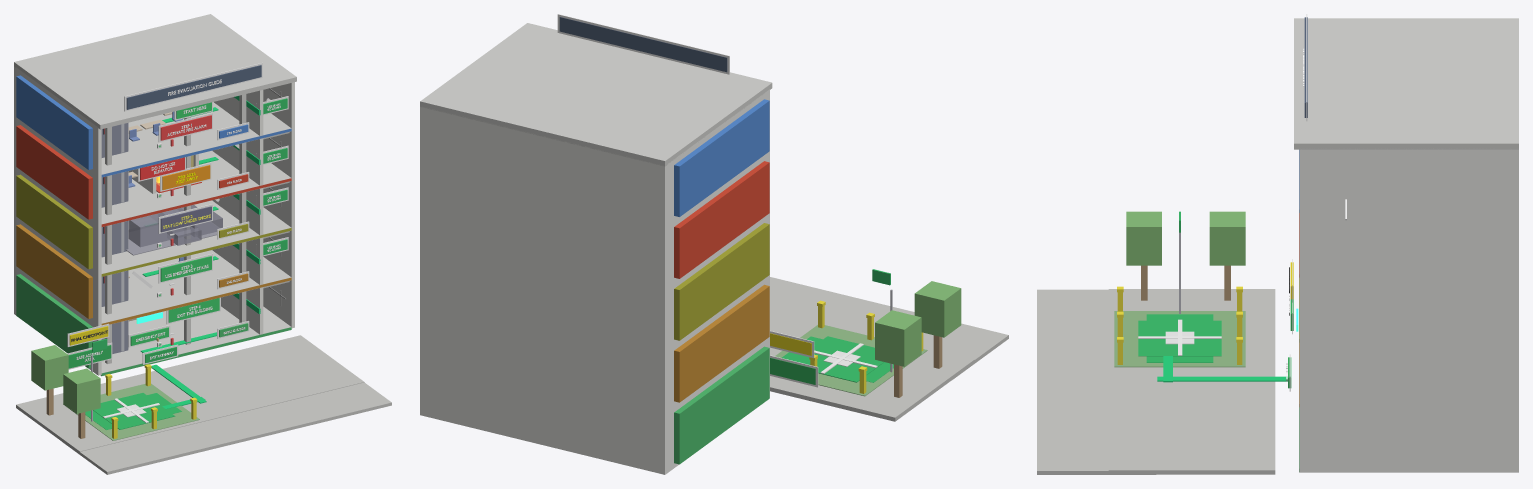
The model's file is buildingfinal.glb.
3 views of the same model, side by side, from view 1: azimuth 30°, elevation 25°; view 2: azimuth 150°, elevation 25°; view 3: azimuth 270°, elevation 25° (orthographic). The views are drawn at different scales.
Visible parts, largest first — view 1: roof, pave1, pave2, wl_sw, slab1, wl_lt, wl_rt, slab4, slab0, slab3, fbd2, fbd1 (+33 smaller); view 2: wl_bk, roof, pave1, wl_lt, fbd0, fbd4, fbd1, fbd3, fbd2, pave2, sp_title, ttop-11 (+5 smaller); view 3: wl_rt, roof, pave1, pave2, azone, asm_mark1, ttop-11, ttop-11.001, wl_bk, asm_painted, rout_v.
Part boxes in pixels (x1=…): roof: x1=14, y1=14, x2=296, y2=129; pave1: x1=16, y1=335, x2=364, y2=453; pave2: x1=61, y1=382, x2=391, y2=474; wl_sw: x1=212, y1=90, x2=263, y2=334; slab1: x1=101, y1=250, x2=291, y2=324; wl_lt: x1=16, y1=67, x2=101, y2=375; wl_rt: x1=263, y1=82, x2=294, y2=328; slab4: x1=101, y1=102, x2=291, y2=176; slab0: x1=100, y1=306, x2=291, y2=375; slab3: x1=101, y1=151, x2=291, y2=226; fbd2: x1=16, y1=174, x2=92, y2=269; fbd1: x1=16, y1=224, x2=92, y2=318; wl_bk: x1=420, y1=107, x2=667, y2=474; roof: x1=420, y1=23, x2=772, y2=166; pave1: x1=770, y1=309, x2=974, y2=421; wl_lt: x1=667, y1=89, x2=769, y2=472; fbd0: x1=674, y1=346, x2=769, y2=464; fbd4: x1=674, y1=99, x2=769, y2=216; fbd1: x1=674, y1=284, x2=769, y2=402; fbd3: x1=674, y1=161, x2=769, y2=278; fbd2: x1=674, y1=223, x2=769, y2=340; pave2: x1=770, y1=277, x2=1008, y2=379; sp_title: x1=559, y1=17, x2=727, y2=72; ttop-11: x1=875, y1=310, x2=921, y2=366; wl_rt: x1=1299, y1=148, x2=1513, y2=472; roof: x1=1294, y1=18, x2=1518, y2=149; pave1: x1=1108, y1=289, x2=1275, y2=474; pave2: x1=1037, y1=289, x2=1155, y2=474; azone: x1=1114, y1=311, x2=1245, y2=367; asm_mark1: x1=1138, y1=320, x2=1221, y2=356; ttop-11: x1=1209, y1=211, x2=1245, y2=265; ttop-11.001: x1=1126, y1=211, x2=1161, y2=265; wl_bk: x1=1513, y1=149, x2=1518, y2=472; asm_painted: x1=1146, y1=314, x2=1213, y2=362; rout_v: x1=1157, y1=376, x2=1287, y2=381.
Size of the model in its own units: 18.84 by 16.51 by 20.22.
